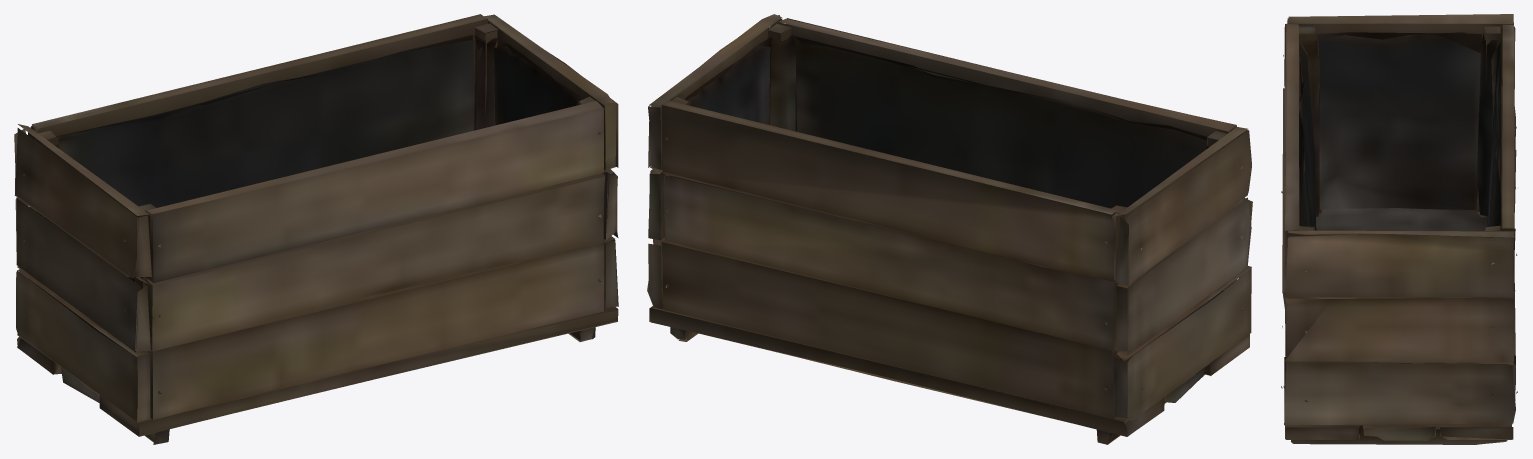
File: planter_box_01.glb
3 renders of one model, left to right at view 1: azimuth 30°, elevation 25°; view 2: azimuth 150°, elevation 25°; view 3: azimuth 270°, elevation 25°, orthographic. The views are drawn at different scales.
Parts seen in each view (by area): view 1: planter_box_01; view 2: planter_box_01; view 3: planter_box_01.
Part boxes in pixels (box(x1,y1,x2,y2)): planter_box_01: box(14, 14, 618, 444); planter_box_01: box(647, 14, 1252, 444); planter_box_01: box(1281, 14, 1517, 444).
Size of the model in its own units: 0.9161 by 0.4315 by 0.417.
1 material, 1 textured.
